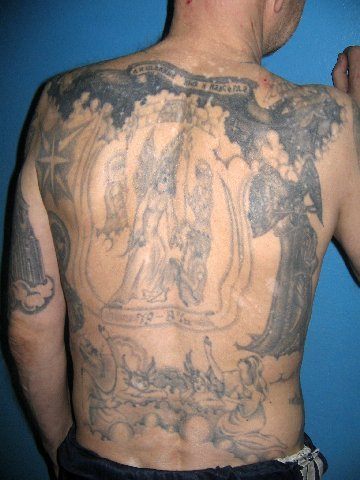tatu1_angel: (111, 126, 219, 311), (114, 338, 226, 408)
tatu3_bukva: (127, 58, 254, 101)
